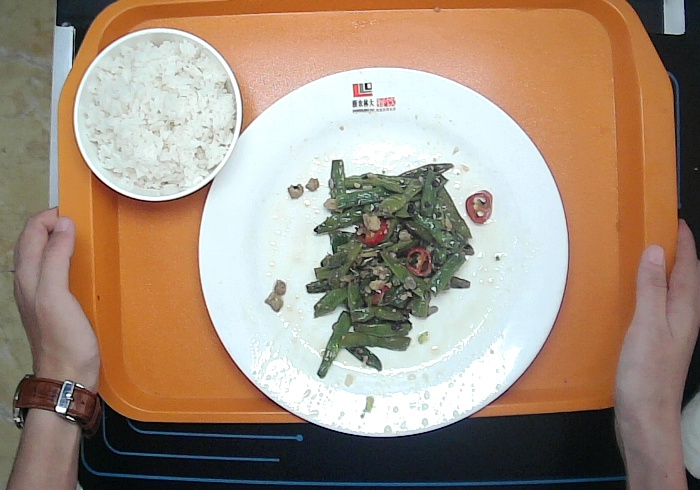ZNLD-Da_Yuan_Pan: (200, 65, 572, 444)
ZNLD-Fan_Wan: (68, 28, 242, 205)
